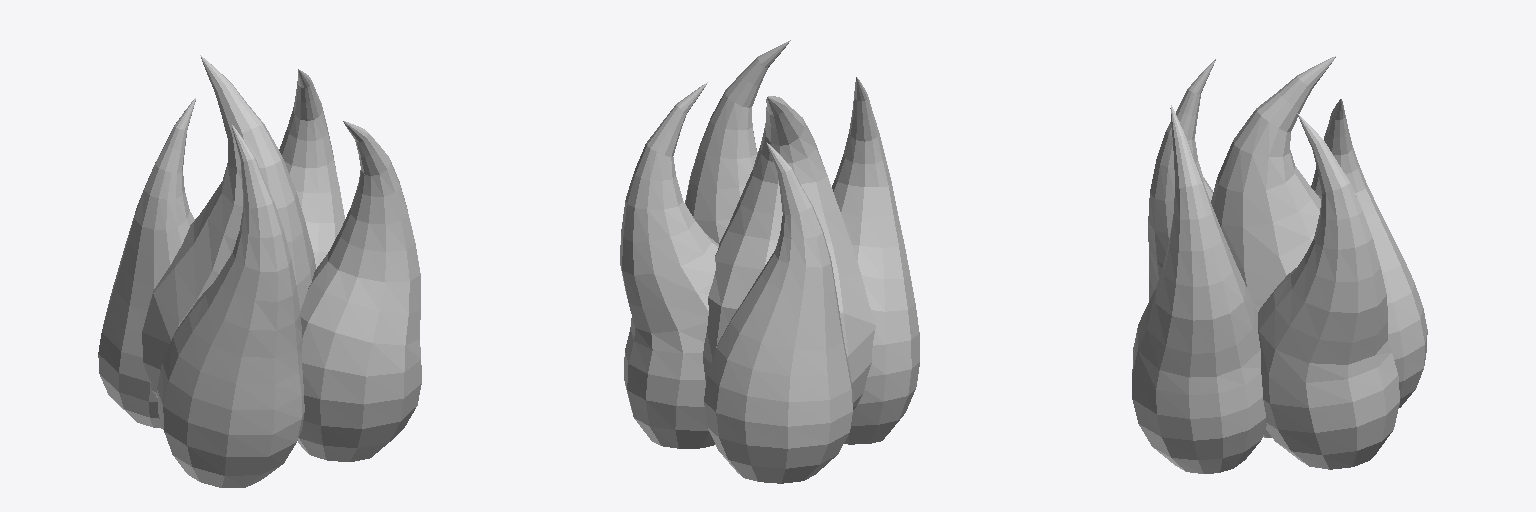
File: fire_000043.obj
The picture shows the model from 3 angles: view 1: azimuth 30°, elevation 25°; view 2: azimuth 150°, elevation 25°; view 3: azimuth 270°, elevation 25°; orthographic projection.
Visible parts, largest first — view 1: flame_NurbsPath.015; view 2: flame_NurbsPath.015; view 3: flame_NurbsPath.015.
Boxes of the visible parts, x1=… form: flame_NurbsPath.015: x1=98, y1=55, x2=421, y2=487; flame_NurbsPath.015: x1=620, y1=40, x2=919, y2=483; flame_NurbsPath.015: x1=1132, y1=56, x2=1427, y2=473.
Size of the model in its own units: 0.7464 by 1.13 by 0.8078.